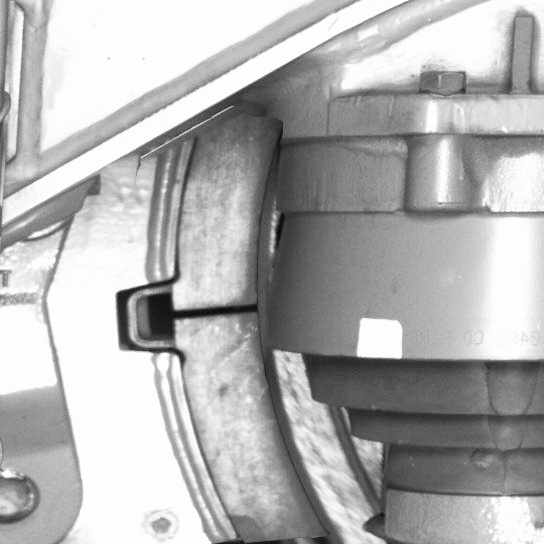ClosedKnifeSwitch: (149, 136, 405, 540)
